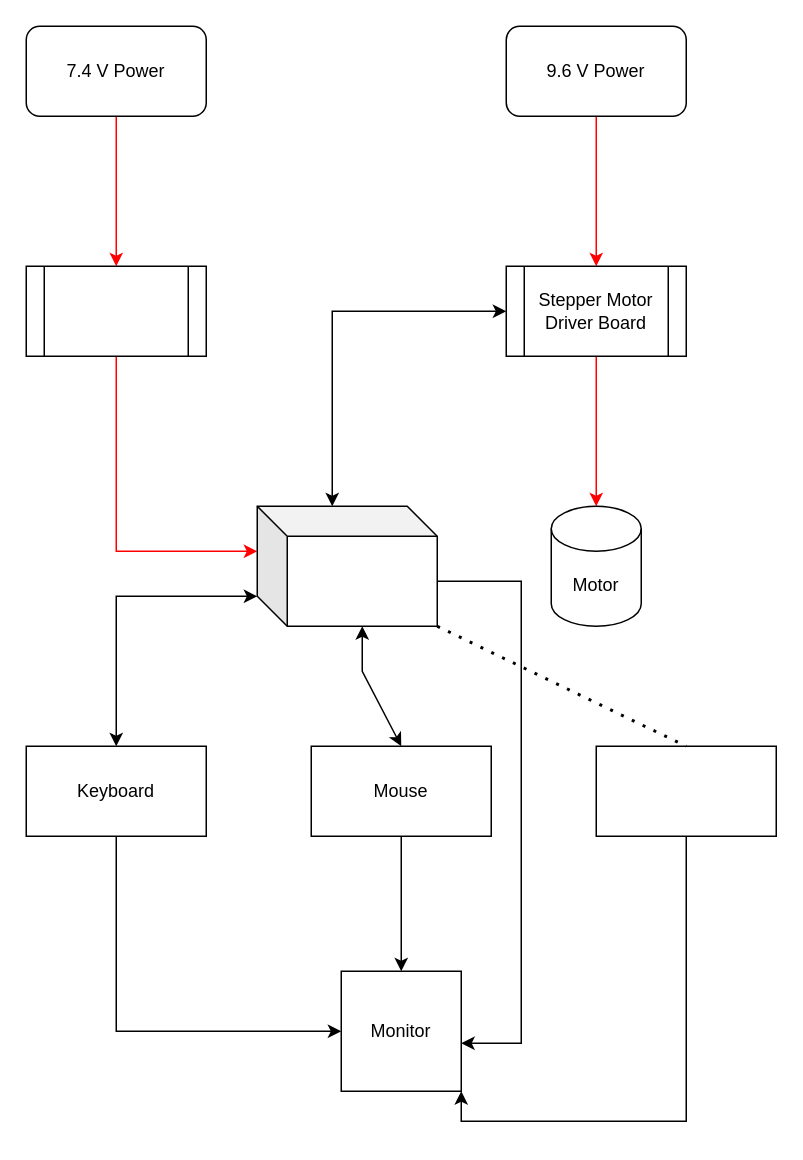
Some shapes in this 803 by 1160 pixel diagram are drawn without their labels. The box of each missing label's shape, as (x1, y1, x2, y2) in pixels:
Buck Converter: (25, 265, 206, 356)
Ethernet: (595, 745, 776, 836)
Jetson Nano: (256, 505, 437, 626)
